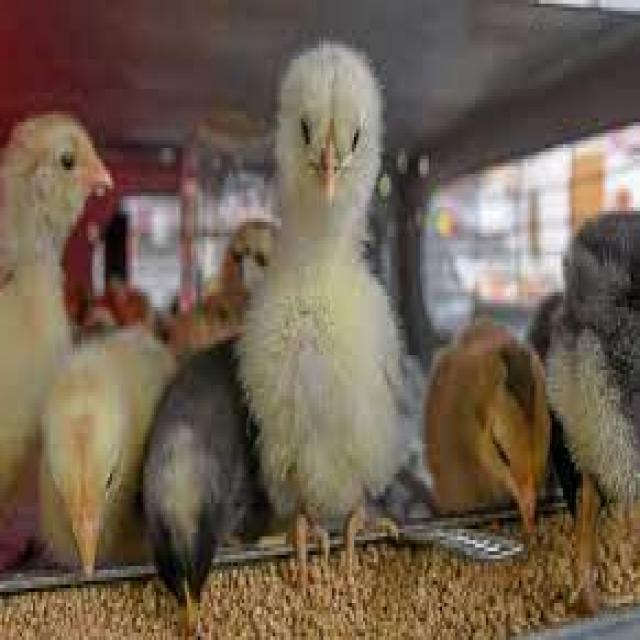poussin: (255, 45, 410, 575), (31, 331, 184, 585), (0, 105, 106, 463), (539, 217, 640, 584), (414, 329, 556, 545), (146, 336, 256, 604)
